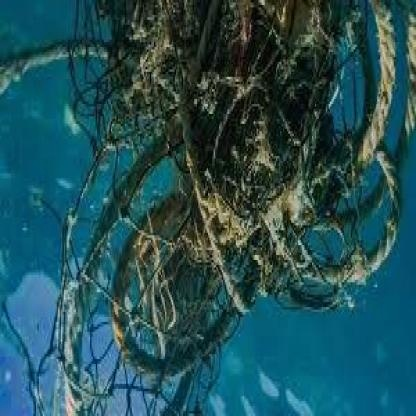net: (54, 2, 408, 416)
